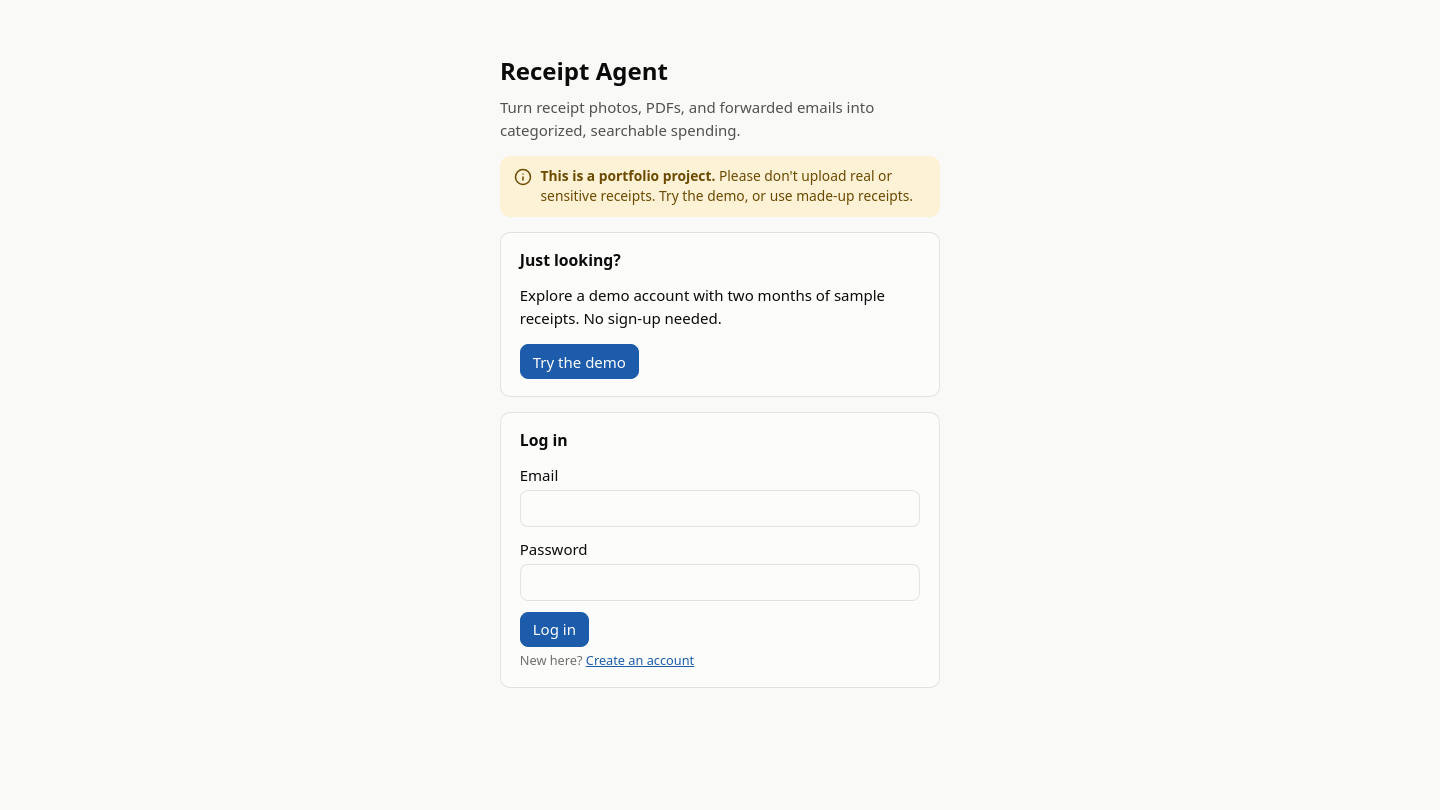
logs in and shows the app
The width and height of the screenshot is (1440, 810).
Type "you@example.com" into the field labelled "Email" at {"x": 720, "y": 509}, box left=520, top=490, right=920, bottom=527
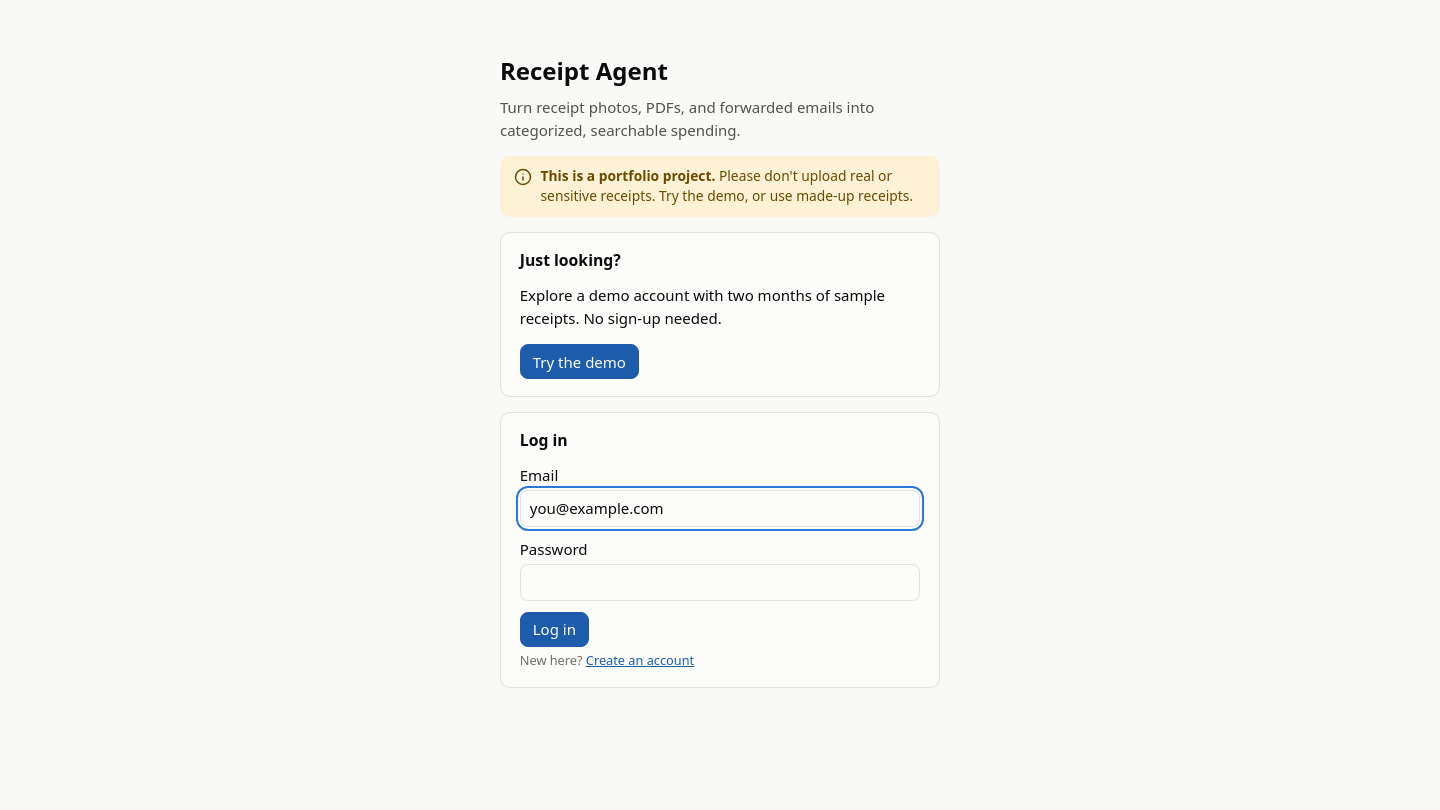
Type "a long enough password" into the password field labelled "Password" at {"x": 720, "y": 583}, box left=520, top=564, right=920, bottom=601
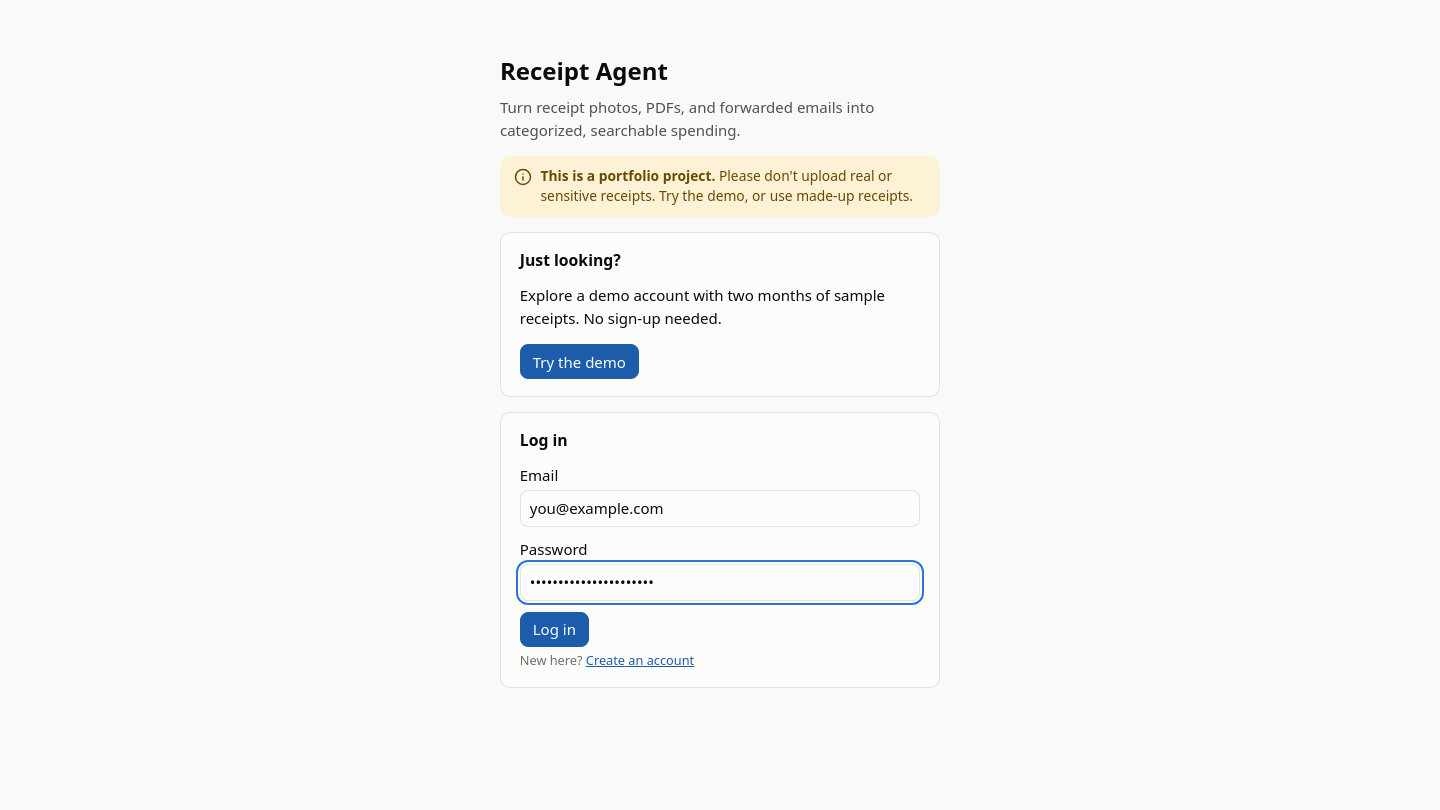
Click the button "Log in" at {"x": 554, "y": 630}, box left=520, top=612, right=589, bottom=647
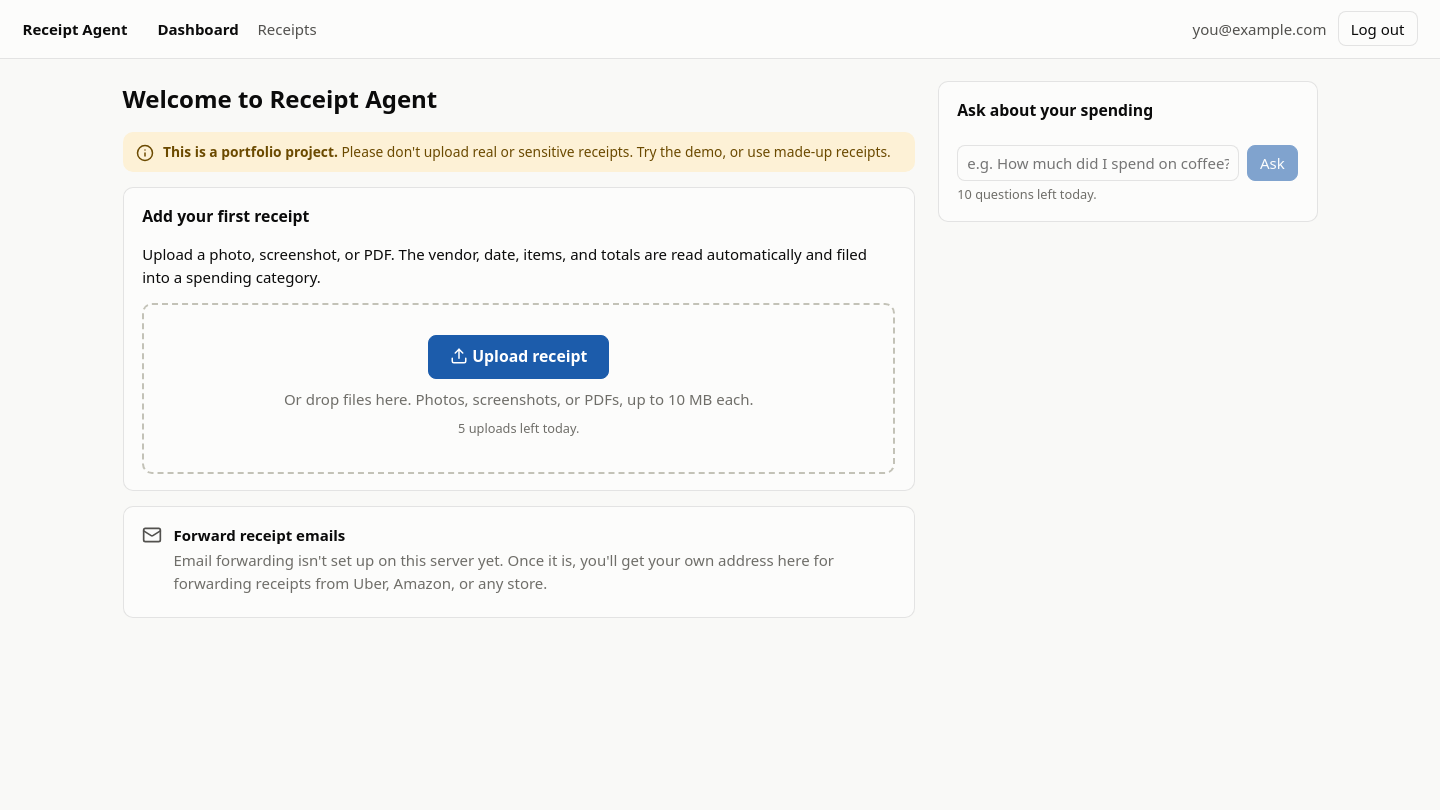
Check: the link "you@example.com" is shown, box left=1192, top=18, right=1326, bottom=40
Check: the link "Dashboard" is shown, box left=157, top=18, right=239, bottom=40
